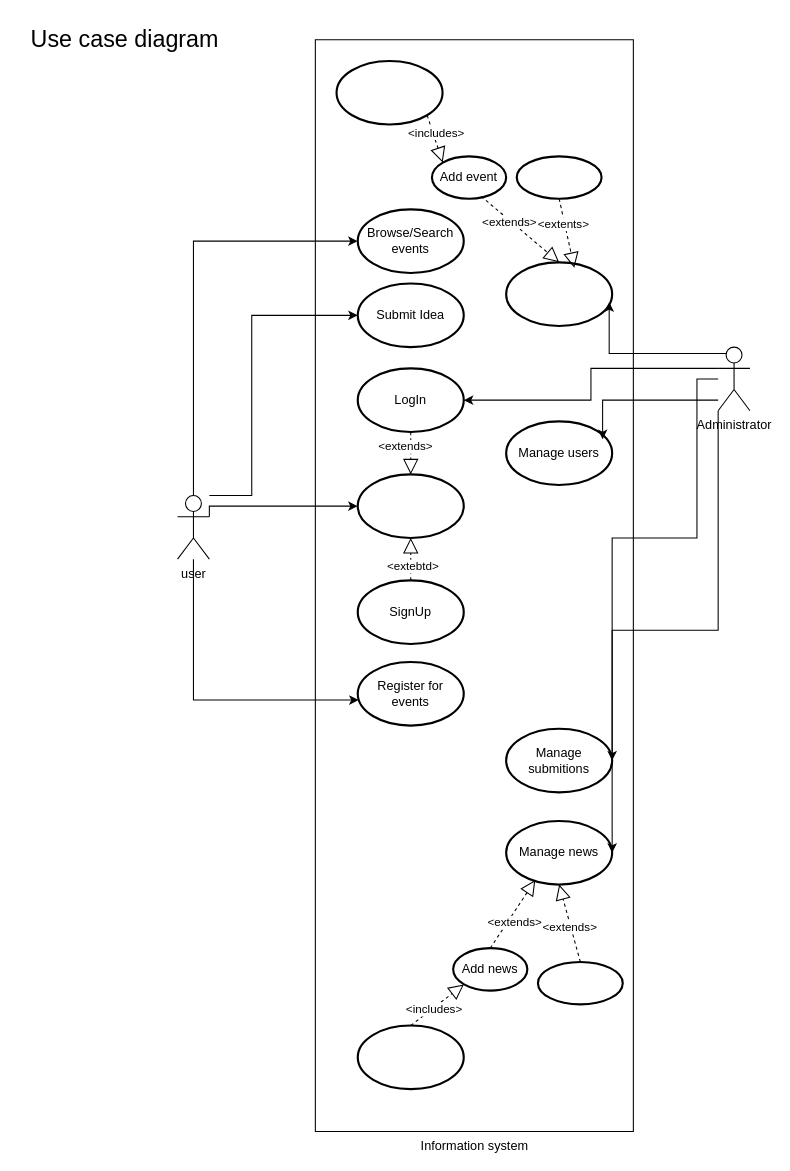
Some shapes in this 790 by 1171 pixel diagram are drawn without their labels. The shapes that lost their labels are listed below. From the top down, each one's centre as x and y in pixels, then its label:
point (389, 92): Inserting event info
point (558, 177): Delete event
point (559, 293): Manage events
point (410, 505): Authentication
point (579, 982): Delete news
point (410, 1057): Inserting news info
